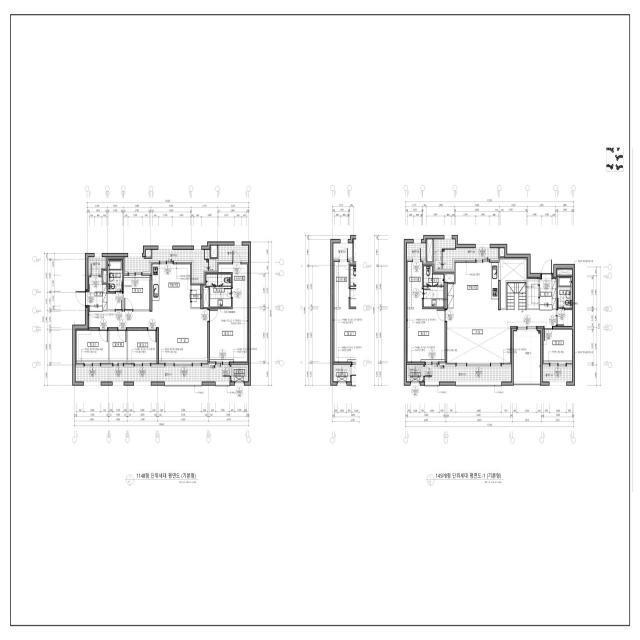space_balconi: (124, 249, 216, 285), (76, 365, 230, 382), (434, 239, 498, 269), (425, 366, 511, 382), (514, 331, 540, 382), (218, 245, 248, 262), (543, 367, 572, 382), (407, 243, 426, 261), (88, 257, 107, 275)
space_bedroom: (210, 309, 248, 362), (408, 309, 445, 362), (76, 331, 108, 363), (544, 329, 572, 363), (128, 331, 157, 363), (124, 276, 150, 310)
space_dressroom: (217, 264, 248, 309), (408, 262, 422, 309)
space_front: (89, 277, 107, 311), (540, 279, 556, 310)
space_kitchen: (448, 263, 498, 307), (152, 264, 190, 310)
space_living_room: (89, 309, 208, 363), (447, 309, 556, 363)
space_other: (500, 259, 527, 308), (109, 331, 127, 363), (507, 282, 526, 310), (528, 279, 539, 309), (108, 293, 123, 310), (557, 310, 572, 326), (192, 285, 200, 307), (203, 285, 209, 307), (427, 239, 432, 262), (557, 270, 572, 275), (445, 274, 454, 282), (211, 246, 217, 257), (103, 271, 107, 283), (146, 250, 151, 257), (500, 248, 504, 256)
space_outdoor_room: (231, 365, 248, 382), (407, 365, 423, 382)
space_toilet: (206, 274, 231, 307), (424, 266, 444, 307), (558, 277, 572, 308), (108, 260, 122, 291)
